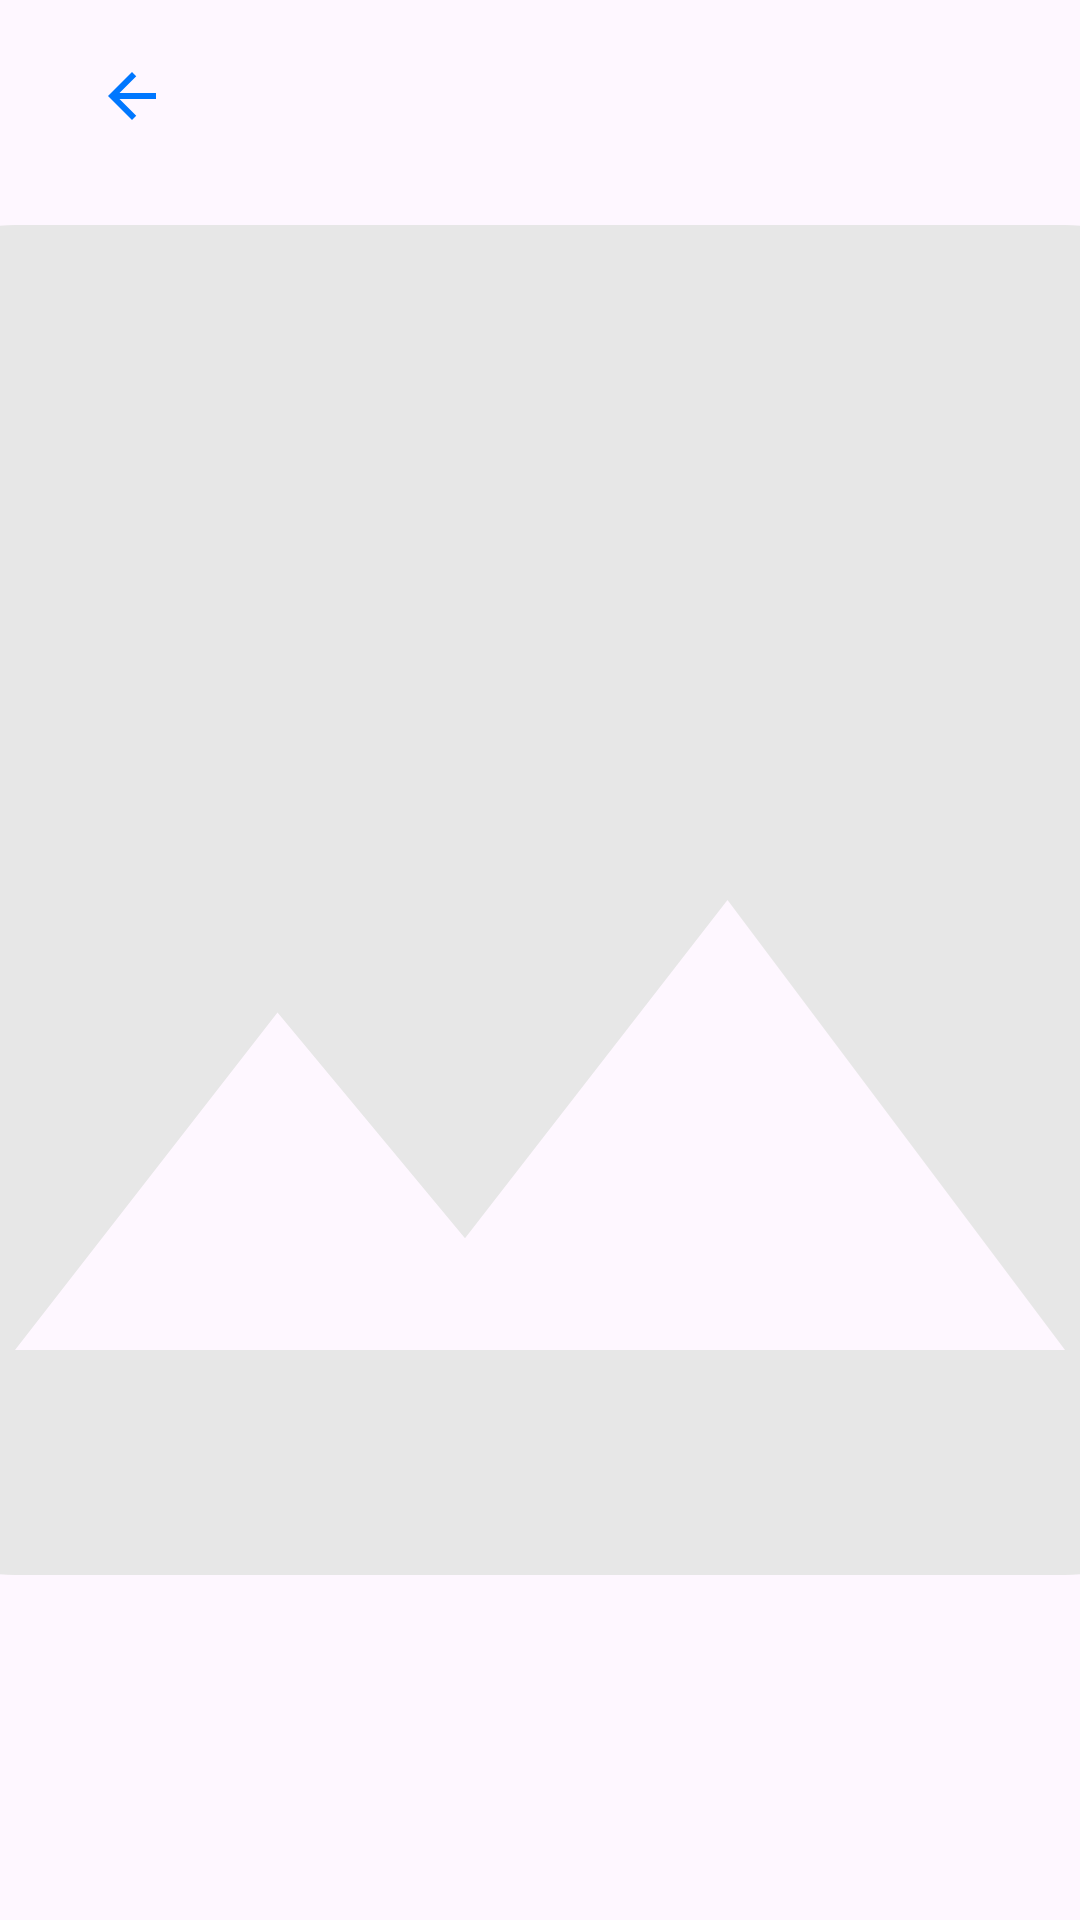

Screen size 1080 x 1920. Icon name, then its center in pixels as (x=x, y=y):
arrow back: (x=132, y=96)
